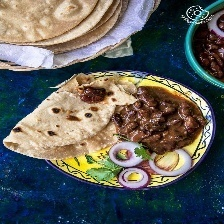roti: (0, 0, 131, 55)
